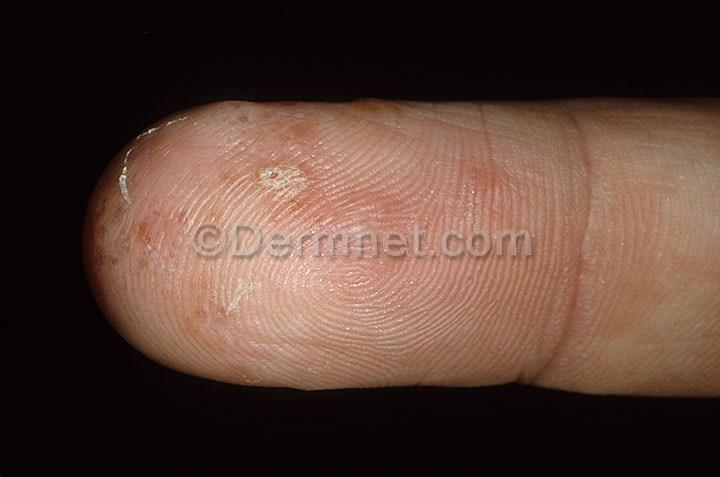Eczema: (83, 153, 198, 300), (229, 141, 379, 235), (212, 256, 306, 317)
